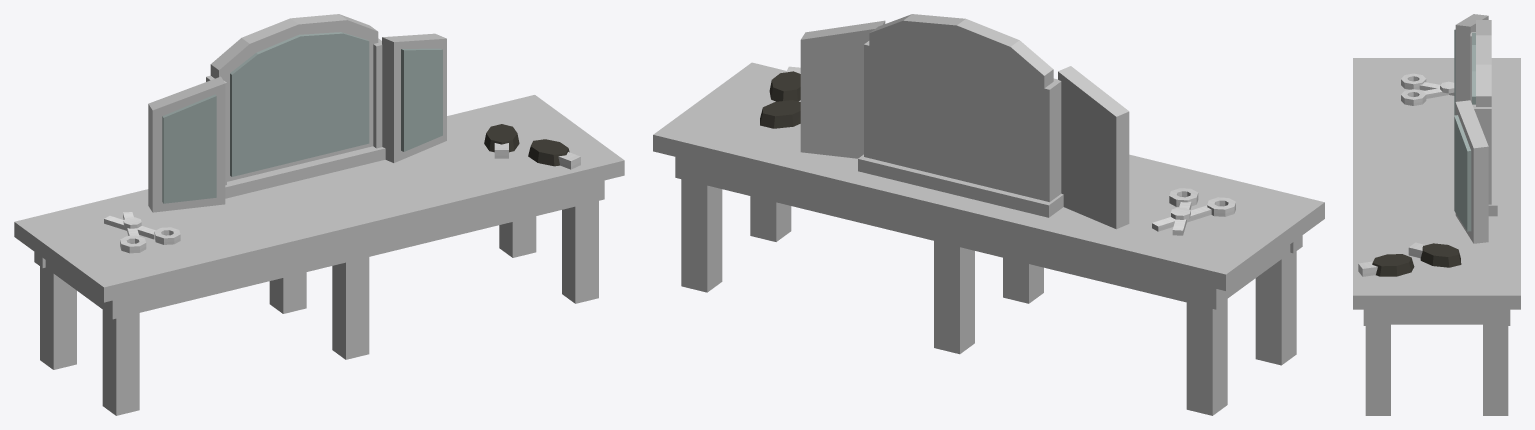
The model's file is styling_station.obj.
3 views of the same model, side by side, from view 1: azimuth 30°, elevation 25°; view 2: azimuth 150°, elevation 25°; view 3: azimuth 270°, elevation 25° (orthographic). The views are drawn at different scales.
Parts seen in each view (by area): view 1: styling_station; view 2: styling_station; view 3: styling_station.
Boxes of the visible parts, x1,y1,x2,y2 form: styling_station: (14,14,624,415); styling_station: (653,14,1324,415); styling_station: (1353,14,1520,415).
Bounding box in the file's own units: 2.88 × 1.53 × 0.86.
